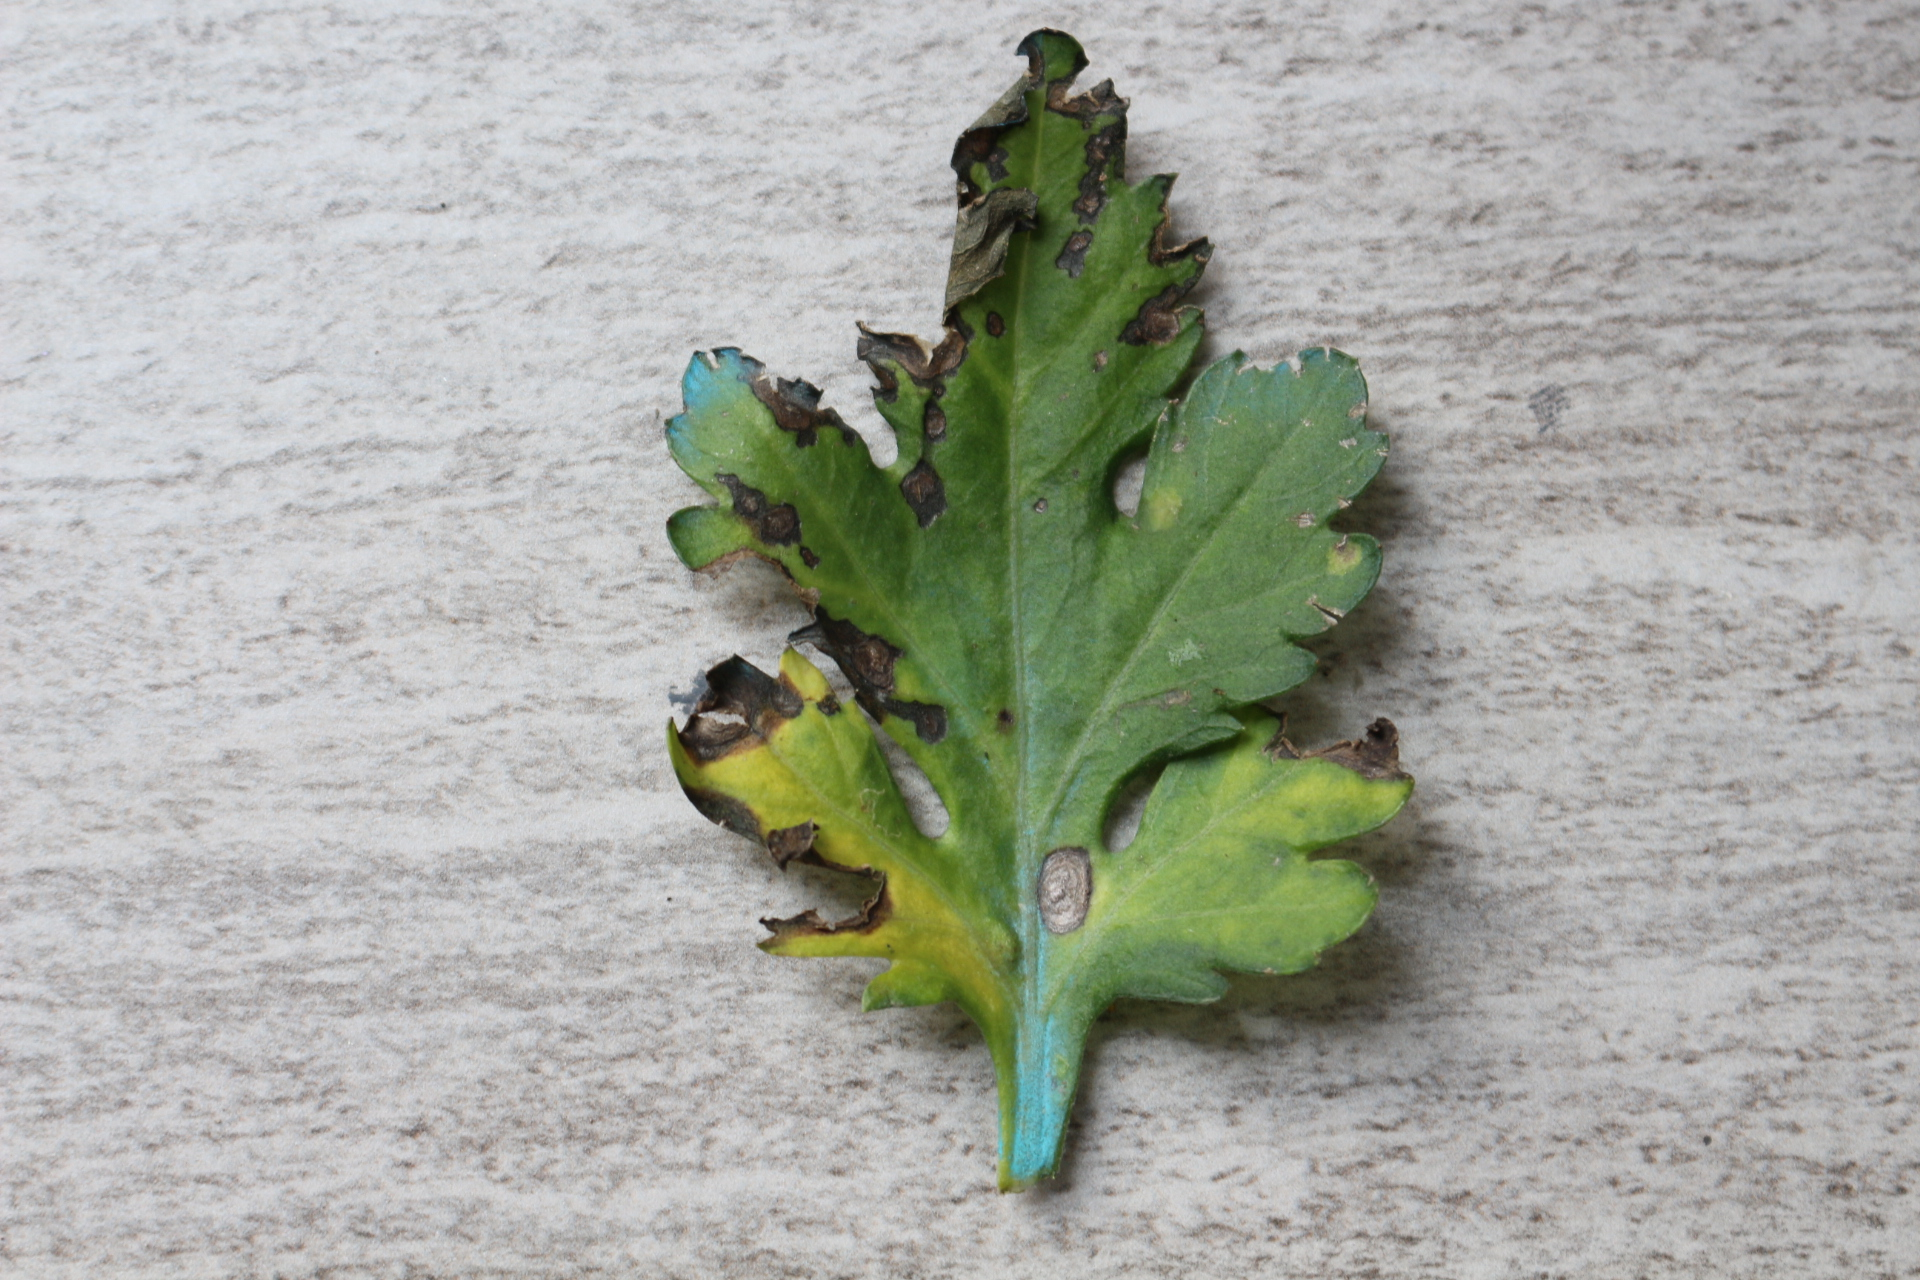namden: (1030, 836, 1097, 950)
